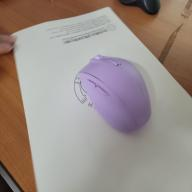mouse: (76, 44, 156, 140)
